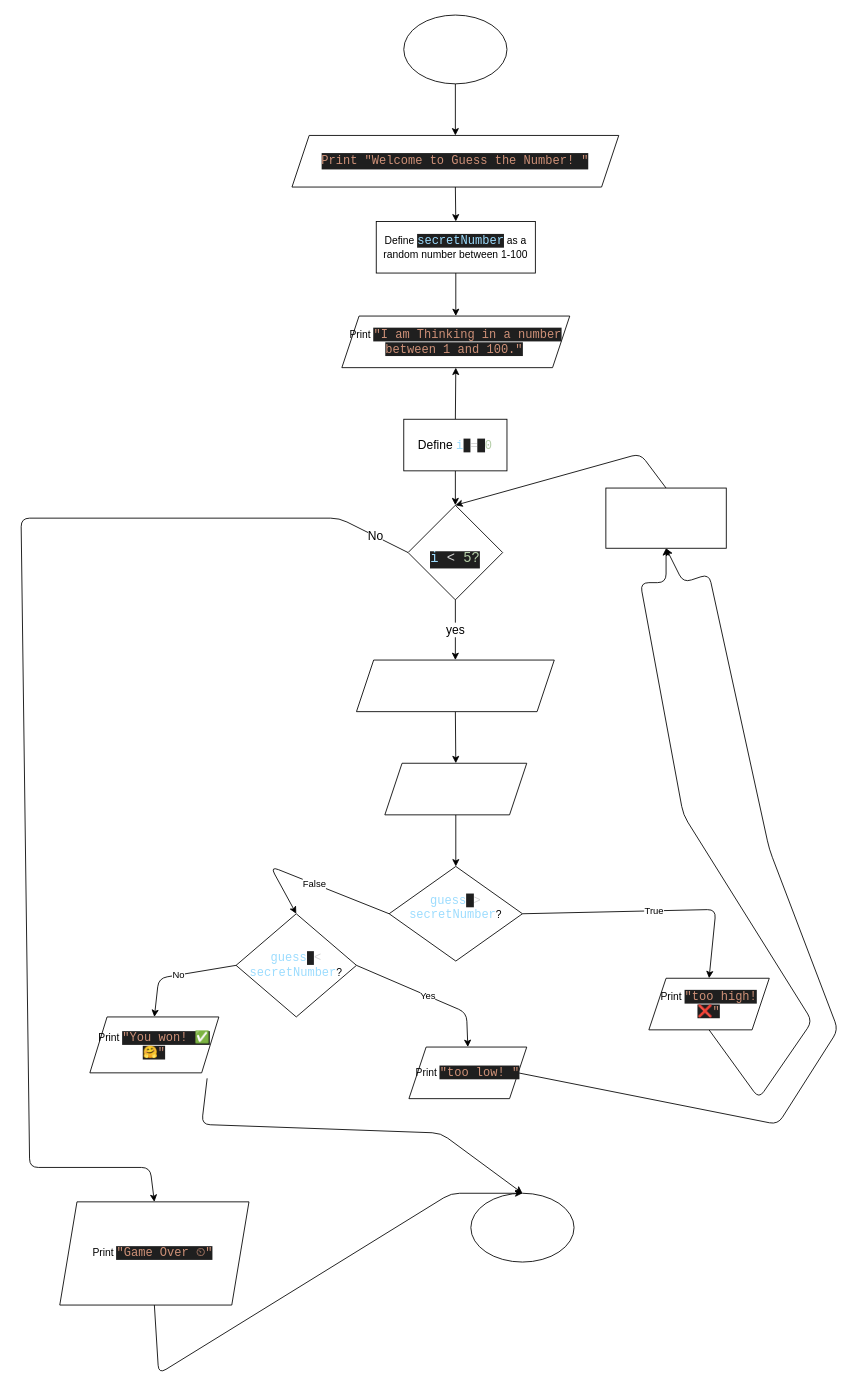
This 860x1396 diagram has some shape labels left out. Each missing label, with the centre of its shape:
End: the point at 522,1227
i ++: the point at 665,517
Print "Enter your Guess: ": the point at 455,685
Read guess: the point at 455,788
Start: the point at 455,49
